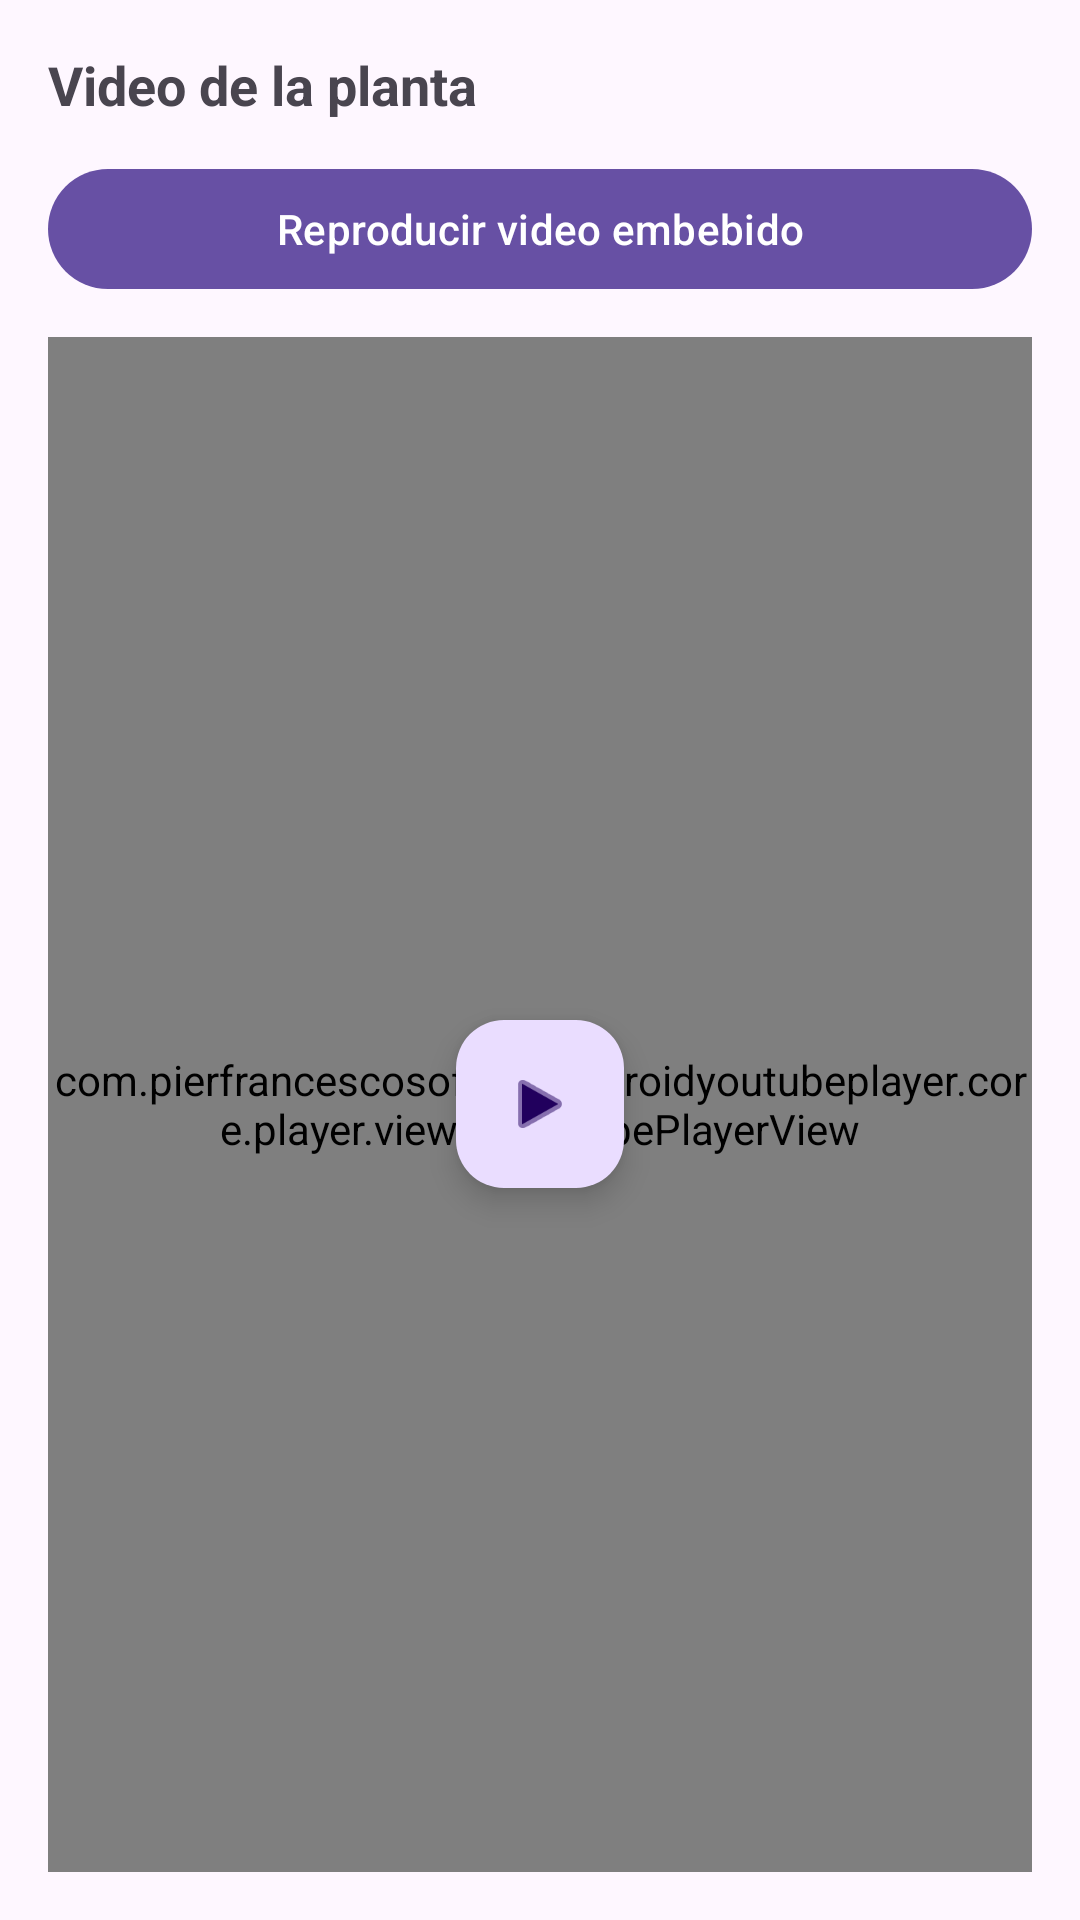

Screen size 1080 × 1920. Icon name, then its box in pixels as (x1, y1, x2, y2):
Reproducir video embebido: (456, 1020, 624, 1188)
